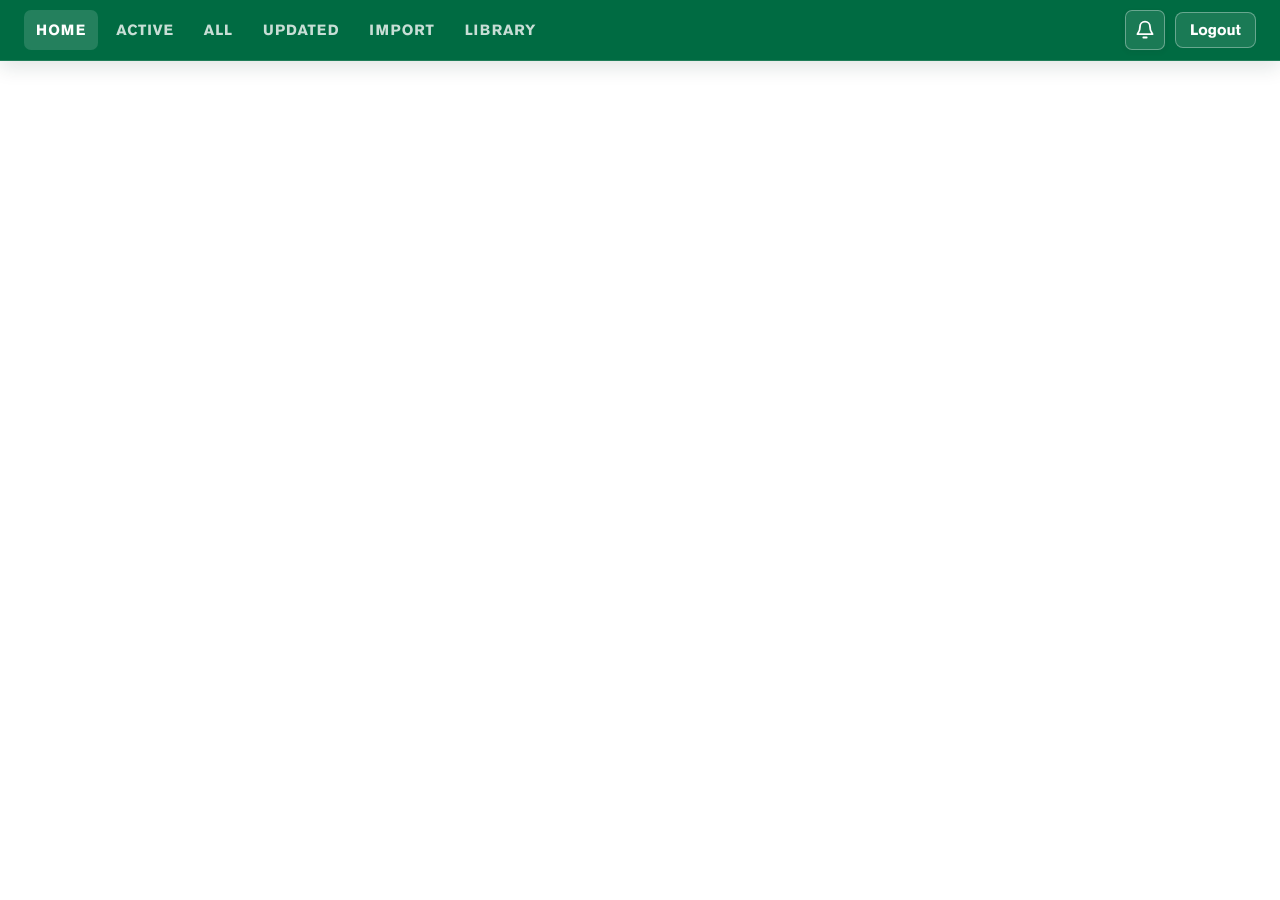
Test: client comment notifications › clears cached notifications when reloading fails instead of retaining private content
Click the button named "Messages and acquisitions" at (1145, 30), box 1125,10 -> 1165,50
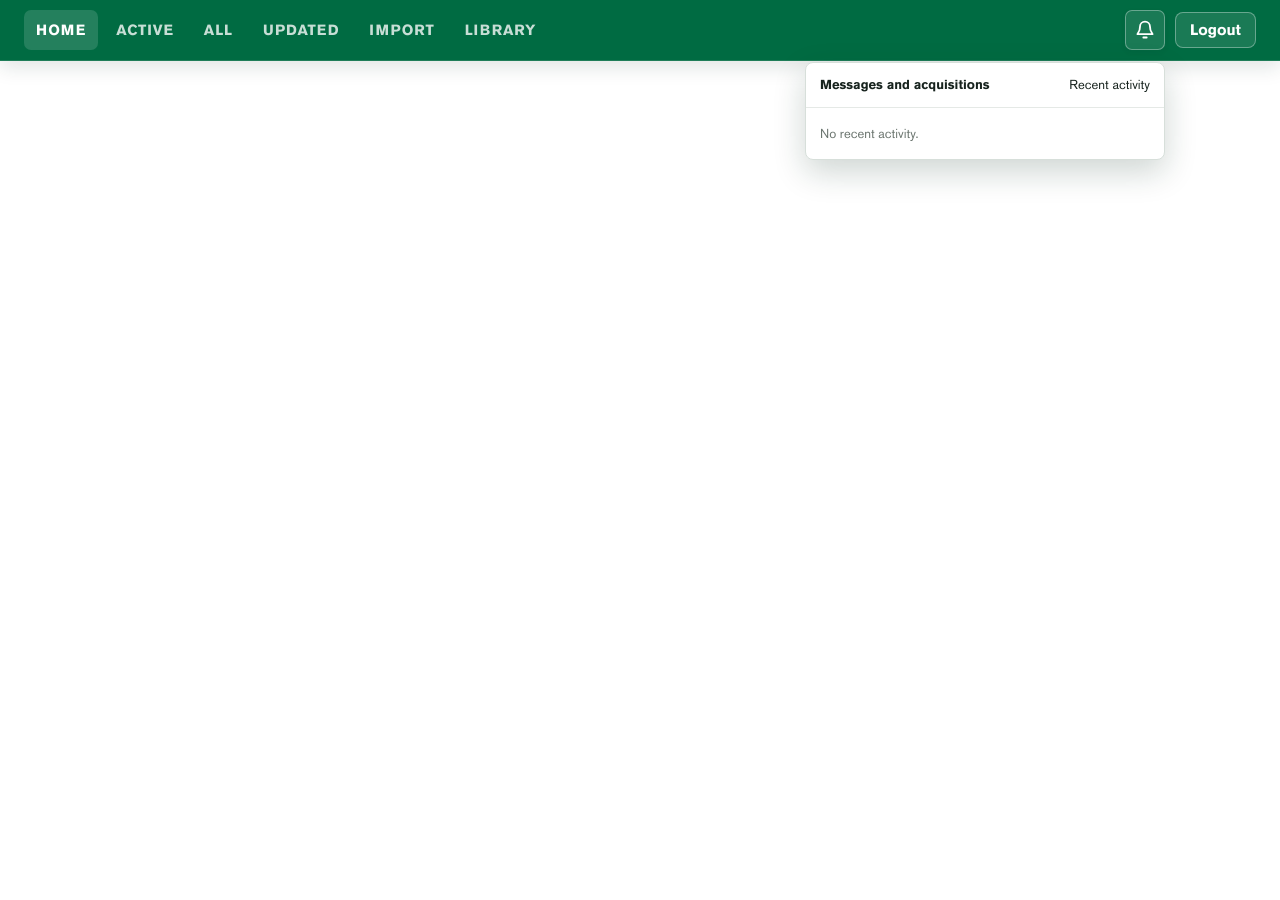
Check: the text "No recent activity." is shown, box 820,126 -> 918,140
